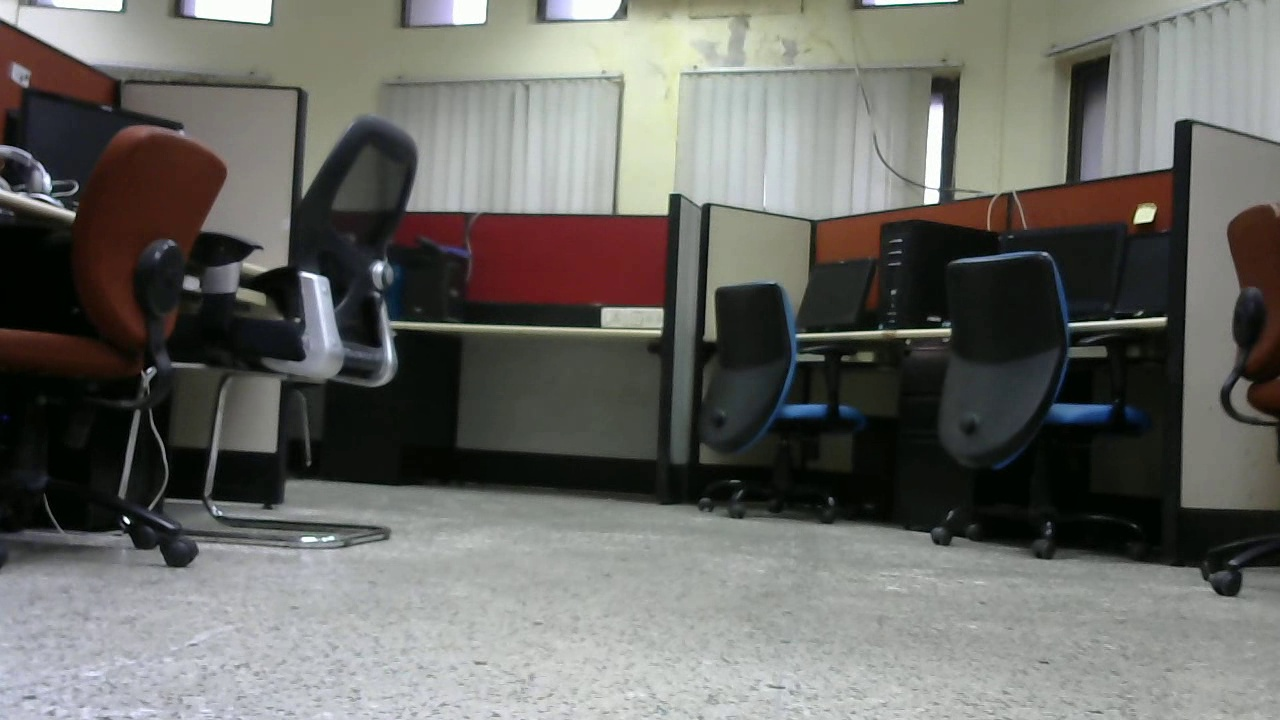chair: (1, 106, 245, 569), (229, 111, 429, 554), (917, 251, 1148, 569), (685, 281, 879, 536)
